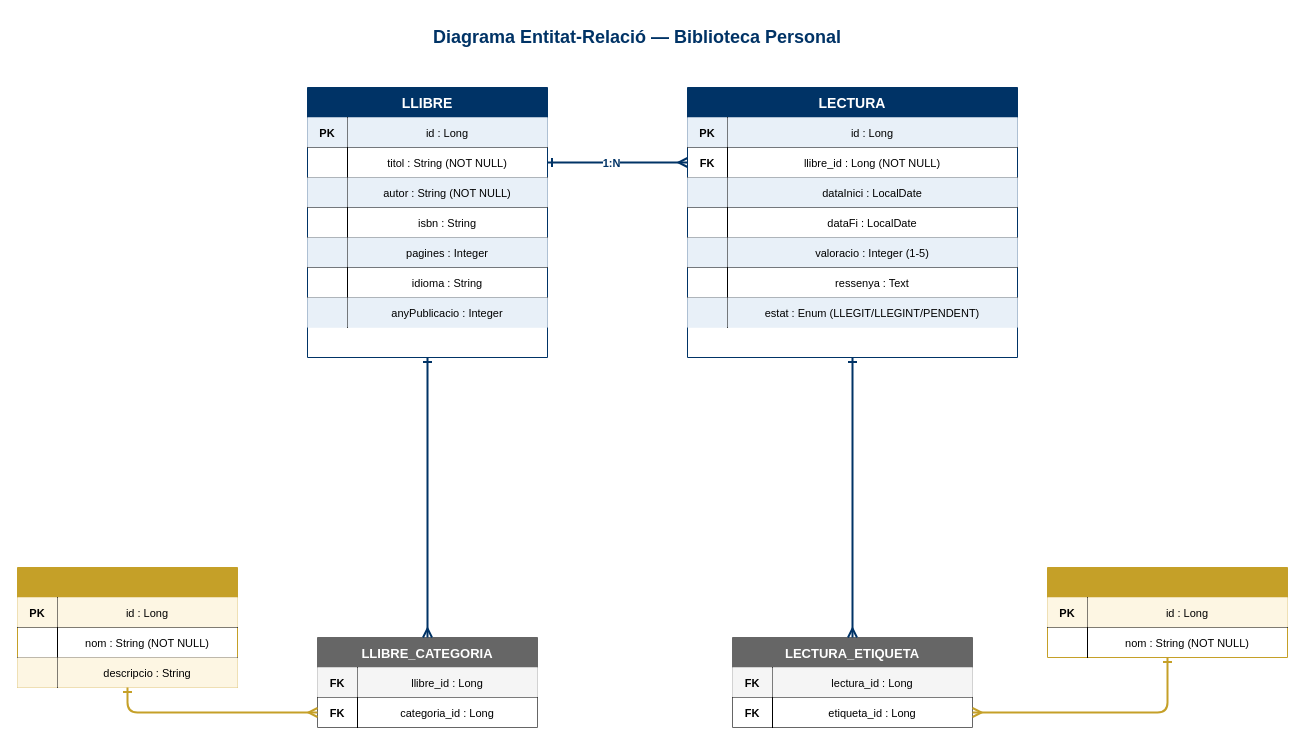
Image size: 1305x745. Some labels were removed from this diagram. Here are the shapes that lost their labels. From the top down, the box of each, then its label:
(16, 566, 238, 688): CATEGORIA
(1046, 566, 1288, 658): ETIQUETA
